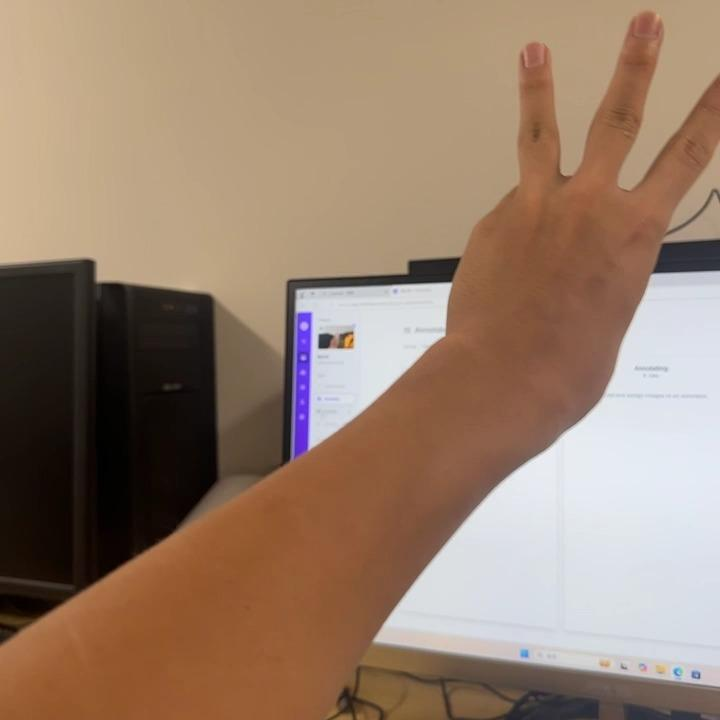without_gloves: (394, 0, 720, 464)
